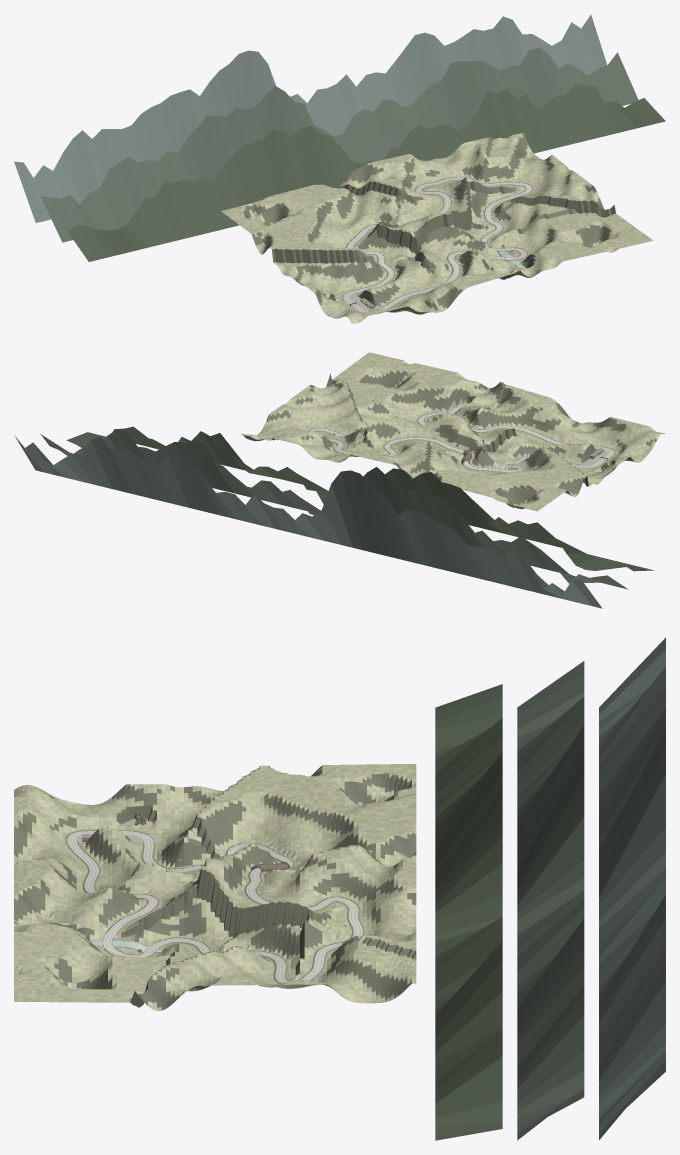
Rendered from Forest.glb.
The picture shows the model from 3 angles, top to bottom: view 1: azimuth 30°, elevation 25°; view 2: azimuth 150°, elevation 25°; view 3: azimuth 270°, elevation 25°; orthographic projection. The views are drawn at different scales.
Parts seen in each view (by area): view 1: Forest_1_-6, Forest_5_-8, Forest_0_-6, Forest_-2_-6, Forest_-3_-8, Forest_8_-6, Forest_-3_-7, Forest_6_-7, Forest_-1_-8, Forest_1_-8, Forest_-1_-6, Forest_4_-7 (+76 smaller); view 2: Forest_2_-8, Forest_1_-8, Forest_0_-8, Forest_6_-8, Forest_4_0, Forest_8_-8, Forest_7_-8, Forest_-1_-8, Forest_2_0, Forest_1_0, Forest_5_-8, Forest_-2_-8 (+57 smaller); view 3: Forest_2_-8, Forest_2_-7, Forest_3_-2, Forest_9_-6, Forest_4_-3, Forest_2_-6, Forest_3_-1, Forest_3_-4, Forest_7_-6, Forest_-1_-1, Forest_0_-3, Forest_8_-7 (+78 smaller).
Part boxes in pixels (x1,y1,x2,y2): Forest_1_-6: (263, 128, 317, 193); Forest_5_-8: (366, 35, 427, 106); Forest_0_-6: (224, 140, 278, 206); Forest_-2_-6: (145, 179, 206, 242); Forest_-3_-8: (53, 130, 104, 204); Forest_8_-6: (546, 84, 606, 144); Forest_-3_-7: (80, 163, 136, 230); Forest_6_-7: (441, 60, 489, 130); Forest_-1_-8: (131, 96, 182, 161); Forest_1_-8: (209, 50, 258, 116); Forest_-1_-6: (184, 165, 239, 233); Forest_4_-7: (353, 99, 406, 161); Forest_2_-8: (312, 470, 371, 552); Forest_1_-8: (351, 470, 410, 561); Forest_0_-8: (389, 502, 448, 570); Forest_6_-8: (149, 453, 208, 512); Forest_4_0: (408, 373, 470, 413); Forest_8_-8: (72, 437, 131, 493); Forest_7_-8: (110, 449, 169, 502); Forest_-1_-8: (427, 515, 486, 580); Forest_2_0: (487, 394, 547, 436); Forest_1_0: (526, 404, 586, 444); Forest_5_-8: (187, 456, 255, 523); Forest_-2_-8: (466, 544, 525, 589); Forest_2_-8: (599, 731, 665, 912); Forest_2_-7: (517, 755, 584, 912); Forest_3_-2: (177, 863, 250, 943); Forest_9_-6: (435, 1045, 502, 1125); Forest_4_-3: (246, 901, 319, 962); Forest_2_-6: (435, 790, 502, 912); Forest_3_-1: (107, 888, 179, 946); Forest_3_-4: (318, 858, 389, 914); Forest_7_-6: (435, 960, 502, 1066); Forest_-1_-1: (108, 784, 179, 833); Forest_0_-3: (246, 789, 317, 844); Forest_8_-7: (517, 986, 584, 1096).
Size of the model in its own units: 1605 by 277 by 1021.
